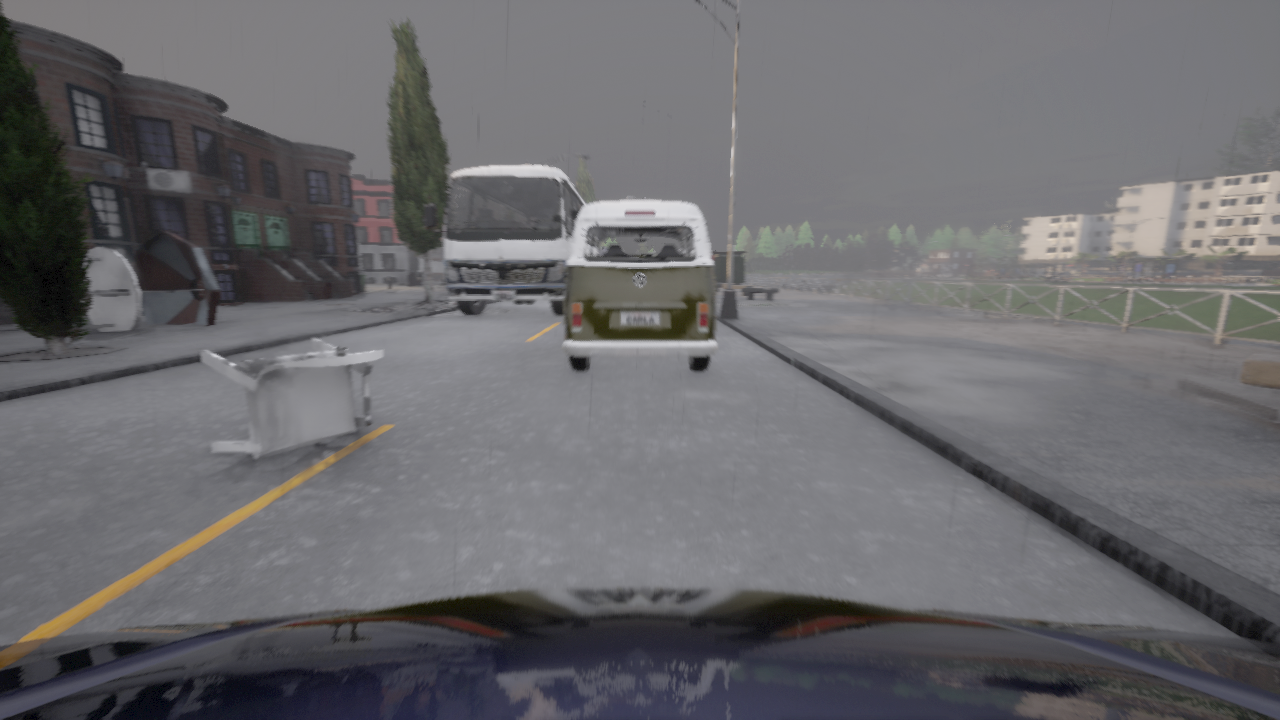cyclist: (0, 588, 1279, 719), (562, 200, 717, 370), (424, 165, 586, 315)
